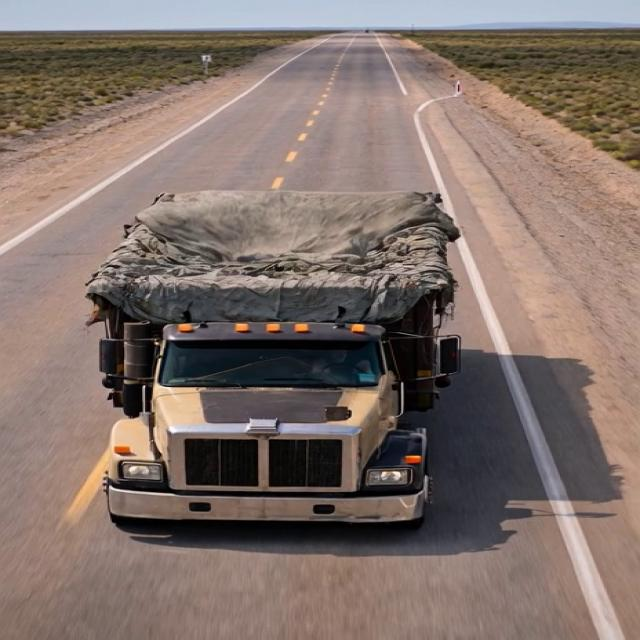trailer: (84, 169, 458, 311)
truck: (71, 136, 498, 546)
